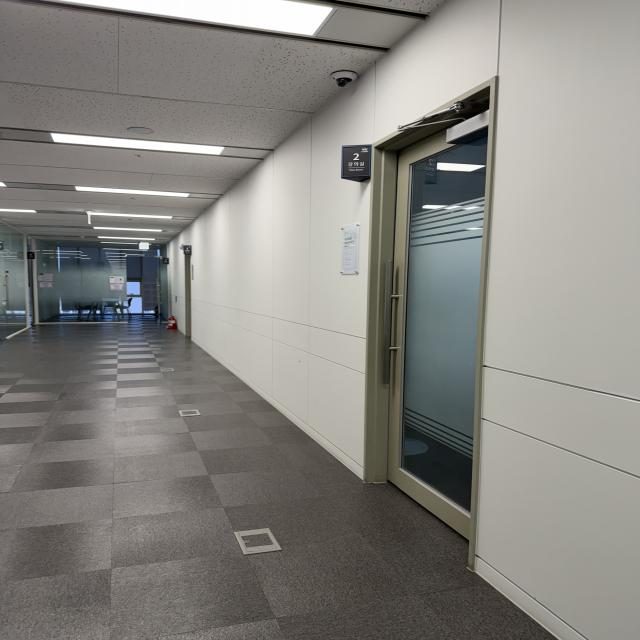room2: (342, 146, 368, 175)
